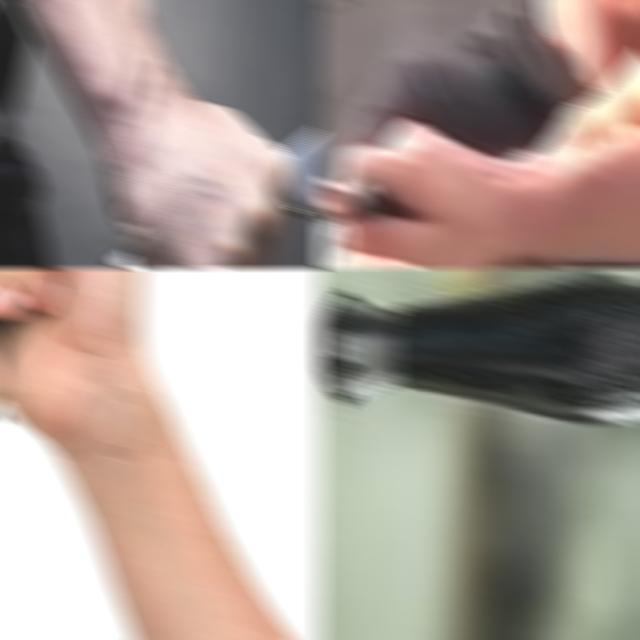Knife: (316, 159, 413, 221), (280, 127, 324, 216)
Knife_Handle: (98, 51, 324, 269), (316, 112, 506, 269)
